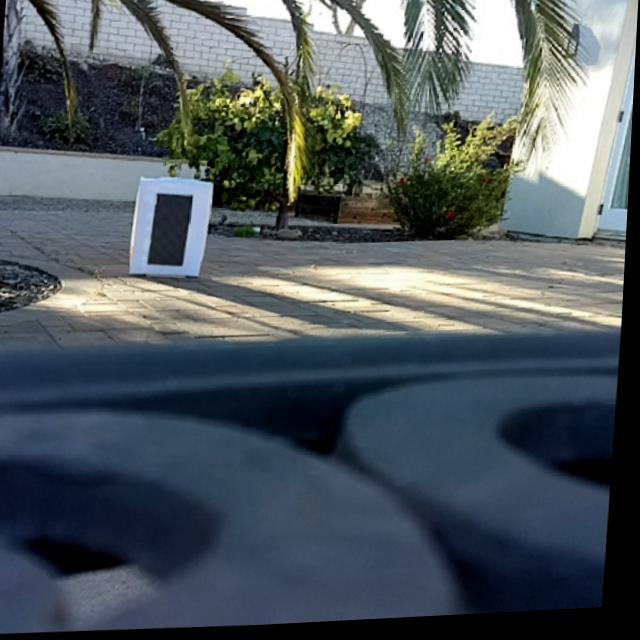led: (152, 192, 193, 269)
